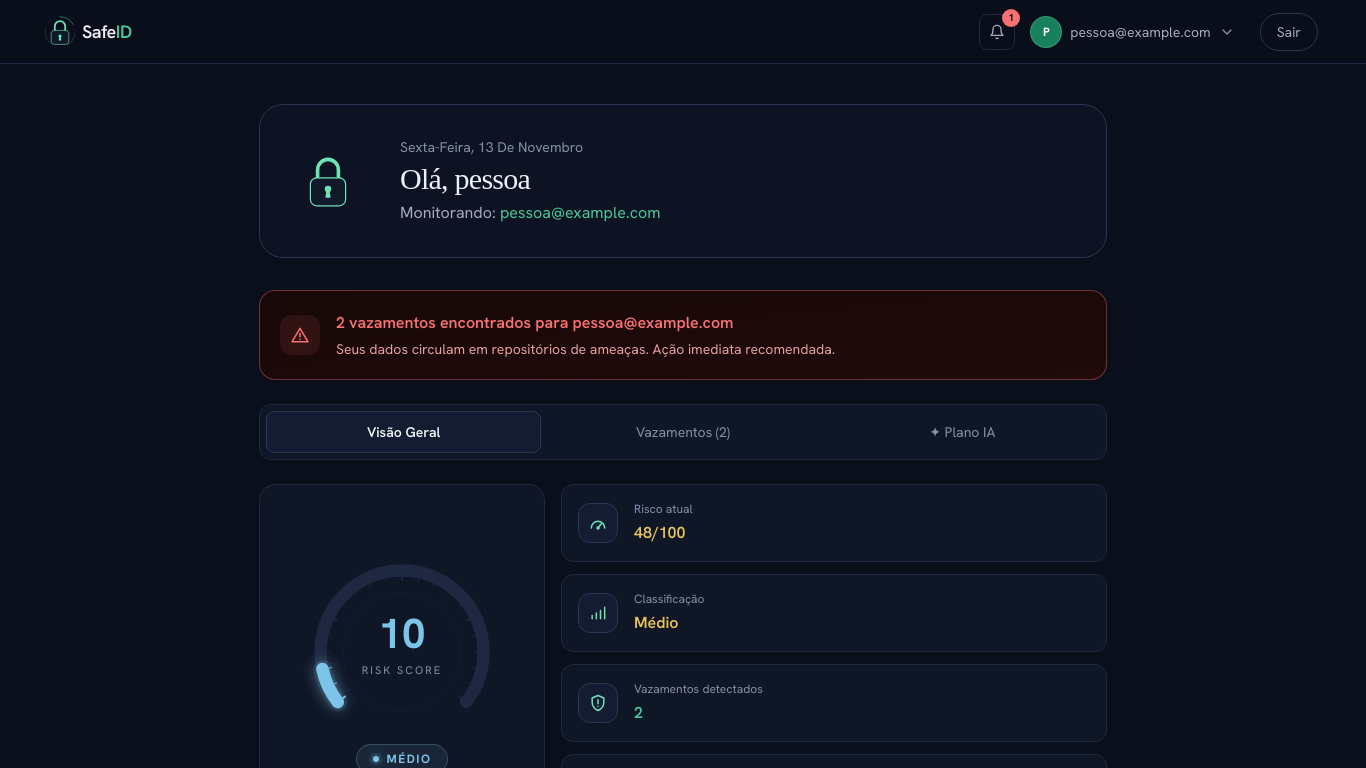
it: acessibilidade (axe-core) › com sessão › o painel de notificações recebe o foco e o Esc devolve ao sino
Expected: the text "2 vazamentos encontrados para pessoa@example.com" is shown, [336,312,734,333]
Click the button named "notifica" at x=997, y=32, box [979,14,1015,50]
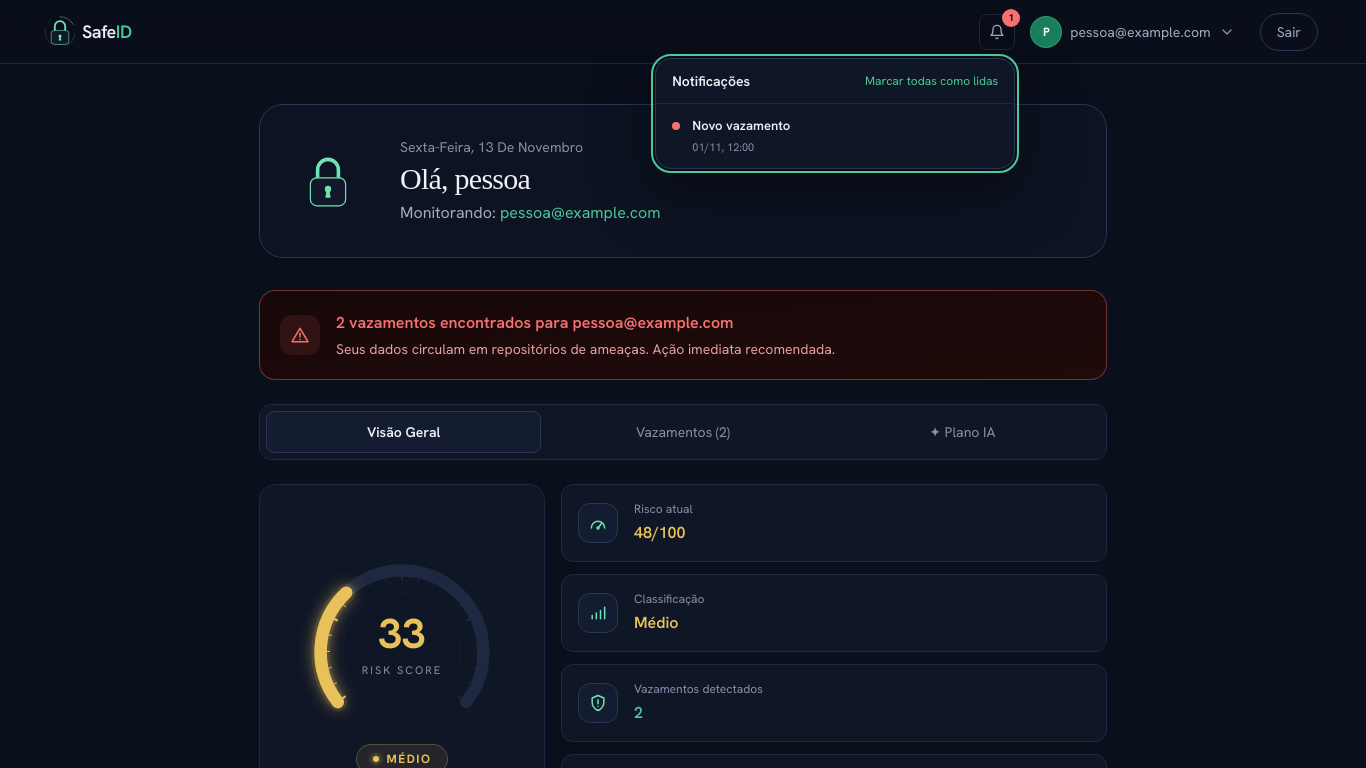
Press Escape
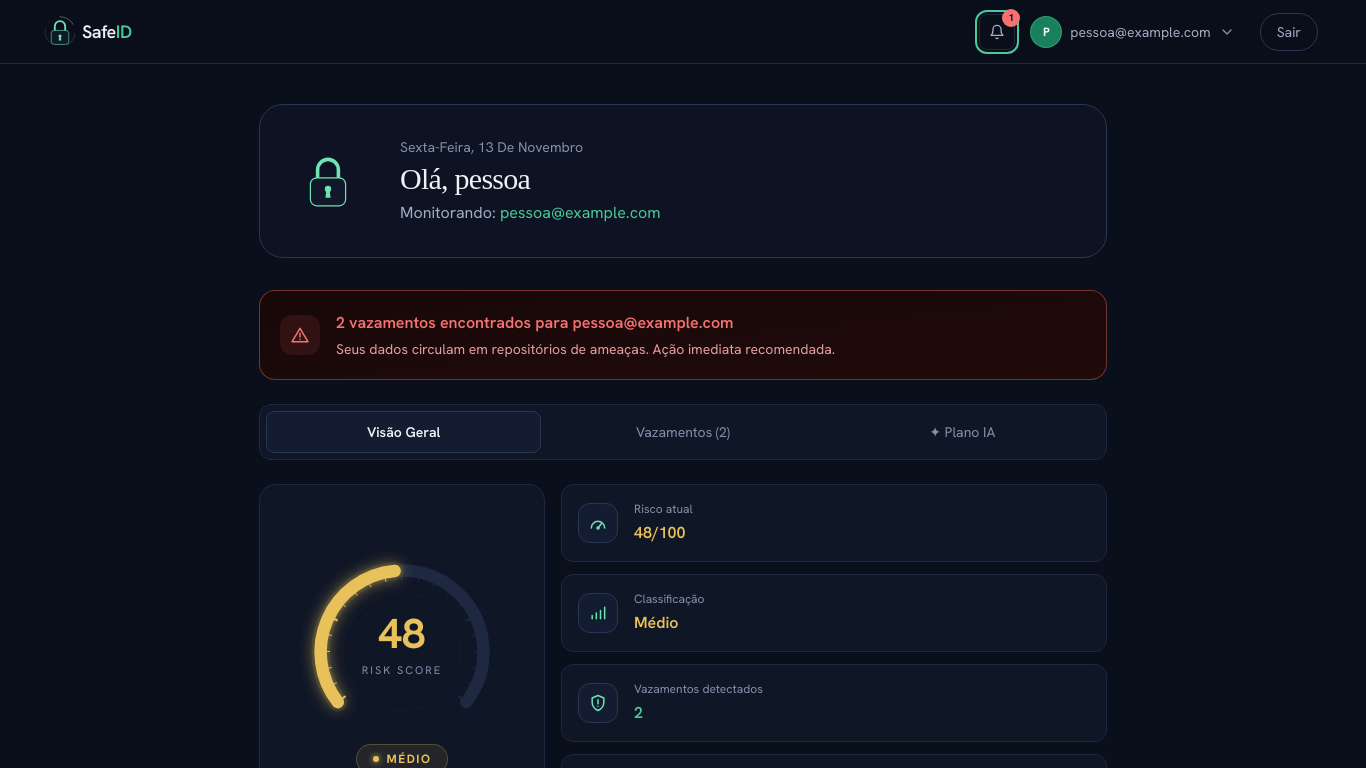
Expected: the dialog is gone
